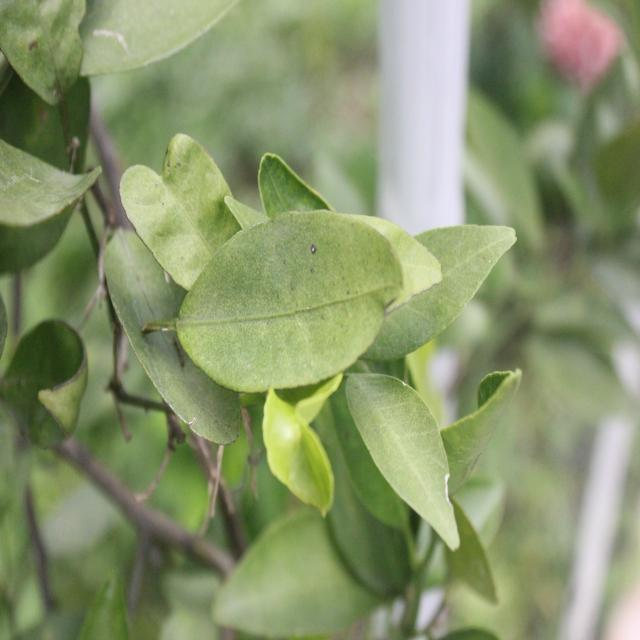blackspot: (200, 222, 382, 384), (150, 146, 218, 268), (196, 391, 242, 445)
